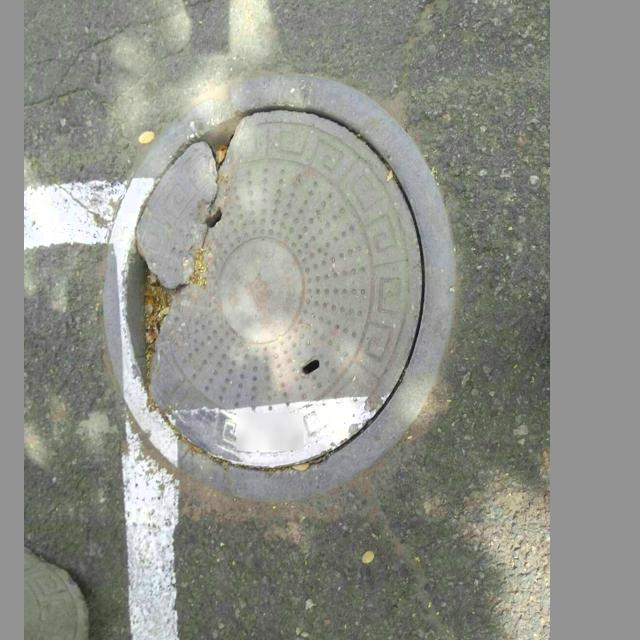broke: (105, 74, 456, 504)
